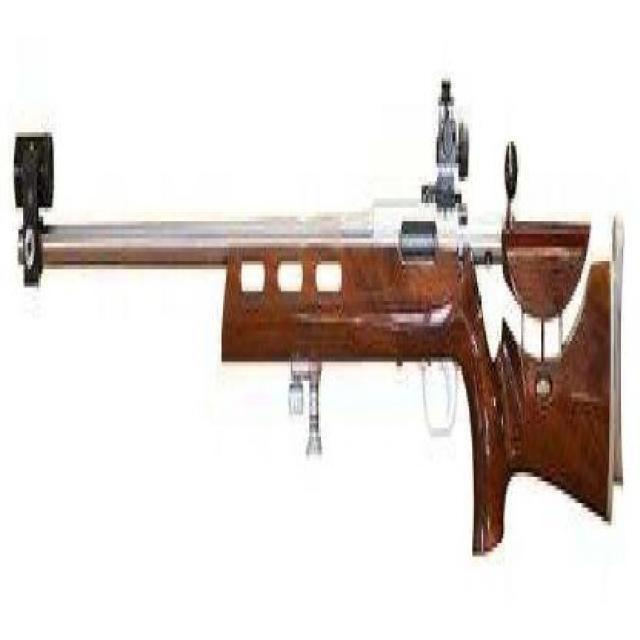weapon: (9, 90, 624, 566)
